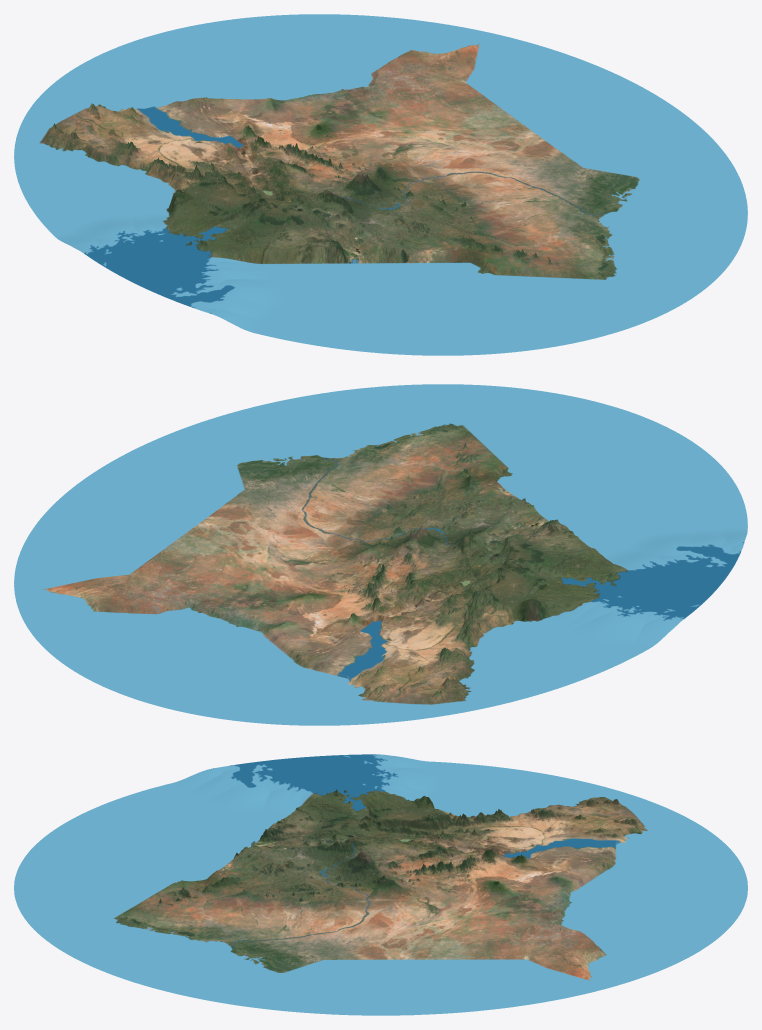
File: KEN-previa-terrain.glb
3 views of the same model, one above another, from view 1: azimuth 30°, elevation 25°; view 2: azimuth 150°, elevation 25°; view 3: azimuth 270°, elevation 25° (orthographic). The views are drawn at different scales.
Parts seen in each view (by area): view 1: Quénia; view 2: Quénia; view 3: Quénia.
Boxes of the visible parts, bbox=[...] form: Quénia: bbox=[14, 14, 747, 355]; Quénia: bbox=[14, 384, 747, 725]; Quénia: bbox=[14, 754, 747, 1015].
Size of the model in its own units: 1.99 by 0.0929 by 2.41.
1 material, 1 textured.
